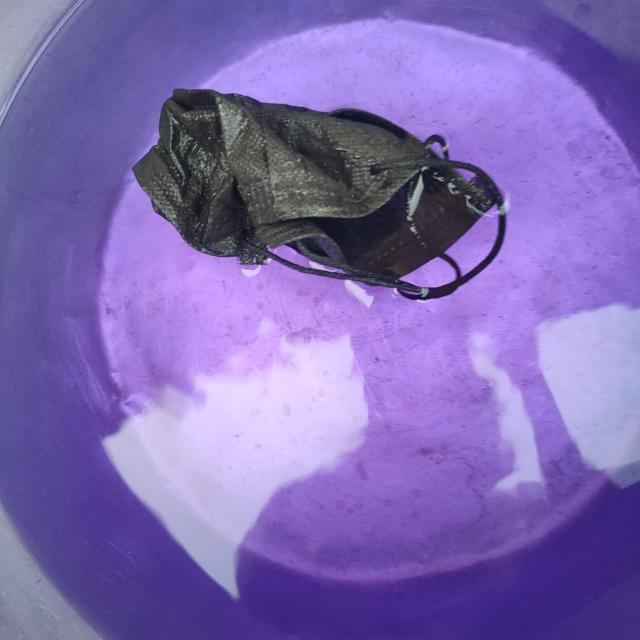litter: (143, 66, 514, 306)
